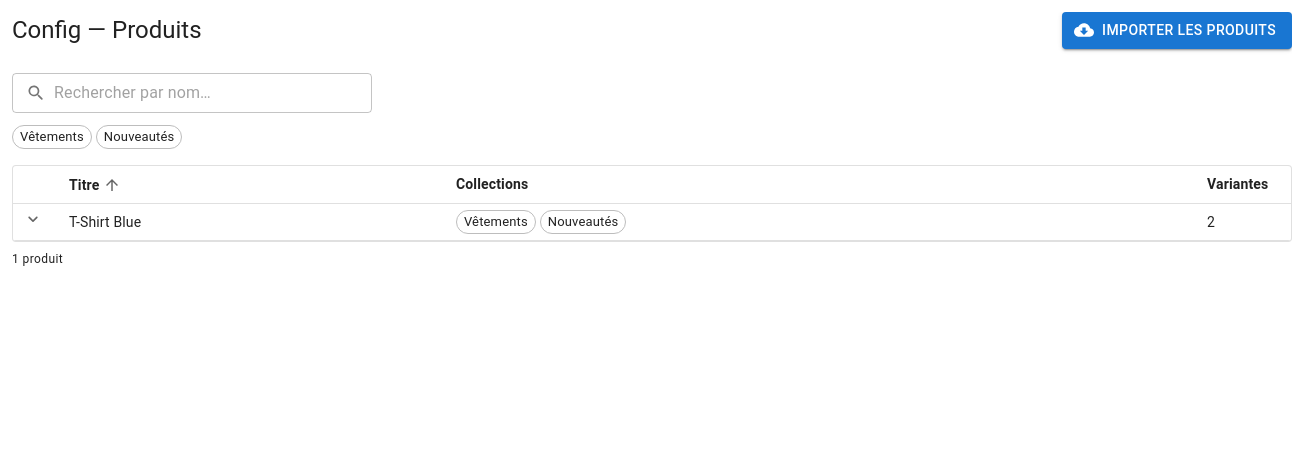
ConfigProductsPage › collapses variants on second click
Click the text "T-Shirt Blue": click(246, 222) [53,203,440,240]
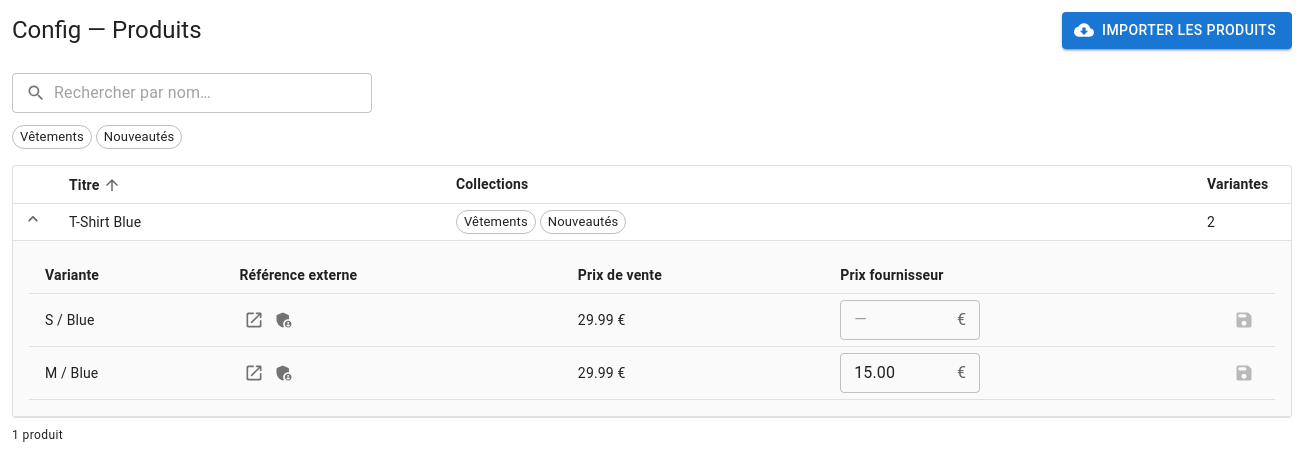
Expected: the text "S / Blue" is shown, [29,293,223,346]
Click the text "T-Shirt Blue": click(246, 222) [53,203,440,240]
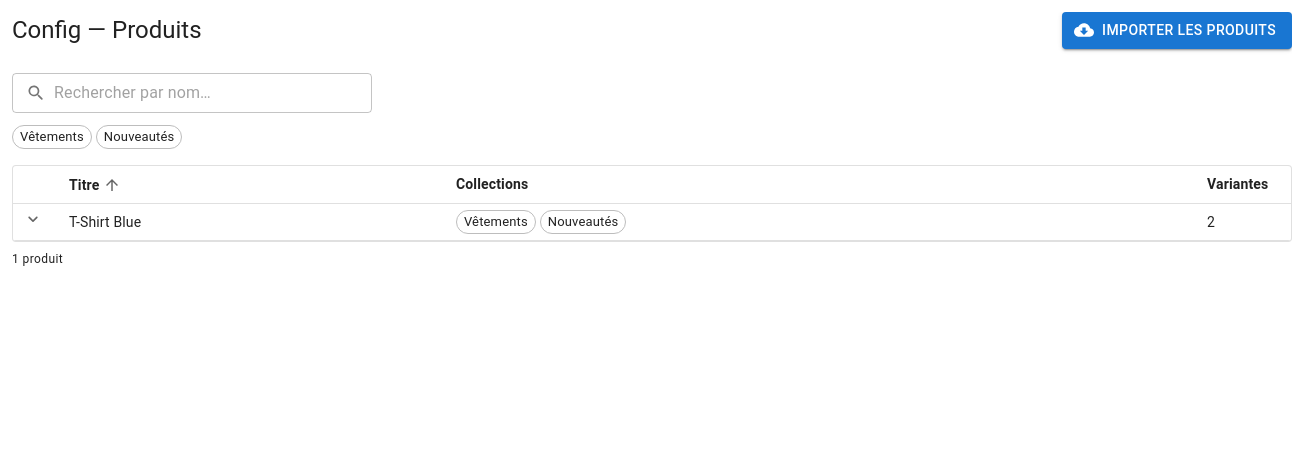
Expected: the text "S / Blue" is gone
